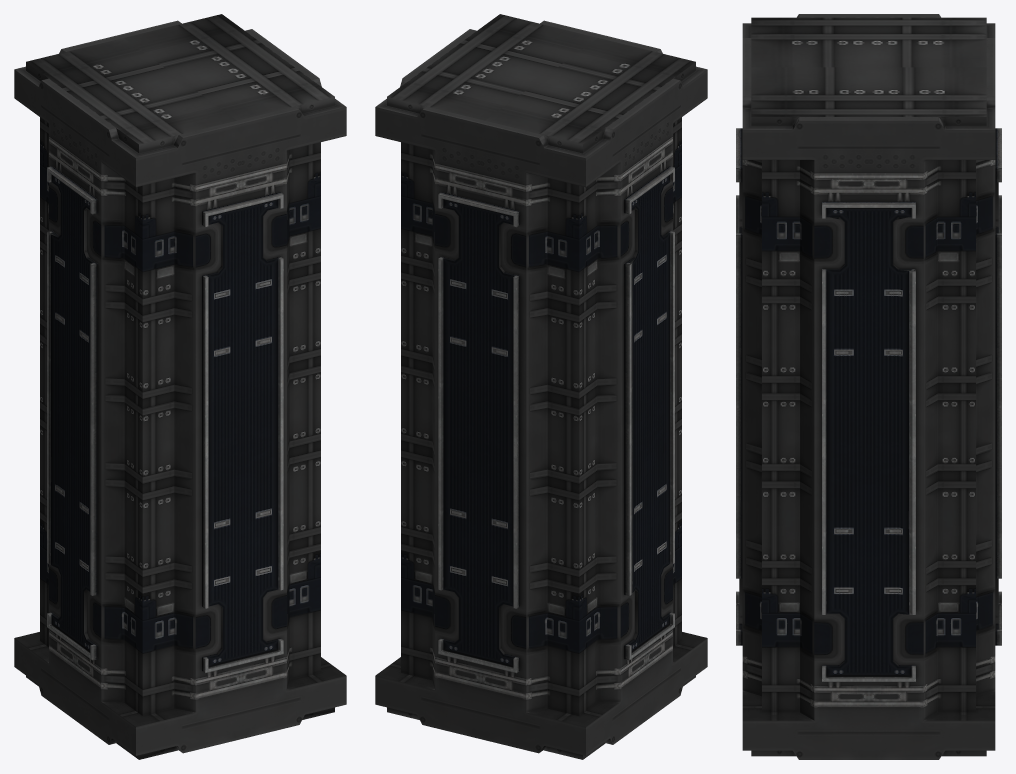
The model's file is Panel_C_Column_2_L2.FBX.
3 views of the same model, side by side, from view 1: azimuth 30°, elevation 25°; view 2: azimuth 150°, elevation 25°; view 3: azimuth 270°, elevation 25° (orthographic). The views are drawn at different scales.
Visible parts, largest first — view 1: Panel_C_Column_2_L2; view 2: Panel_C_Column_2_L2; view 3: Panel_C_Column_2_L2.
Boxes of the visible parts, bbox=[...] form: Panel_C_Column_2_L2: bbox=[14, 14, 346, 759]; Panel_C_Column_2_L2: bbox=[375, 14, 707, 759]; Panel_C_Column_2_L2: bbox=[736, 14, 1001, 759].
Size of the model in its own units: 113 by 300 by 113.
